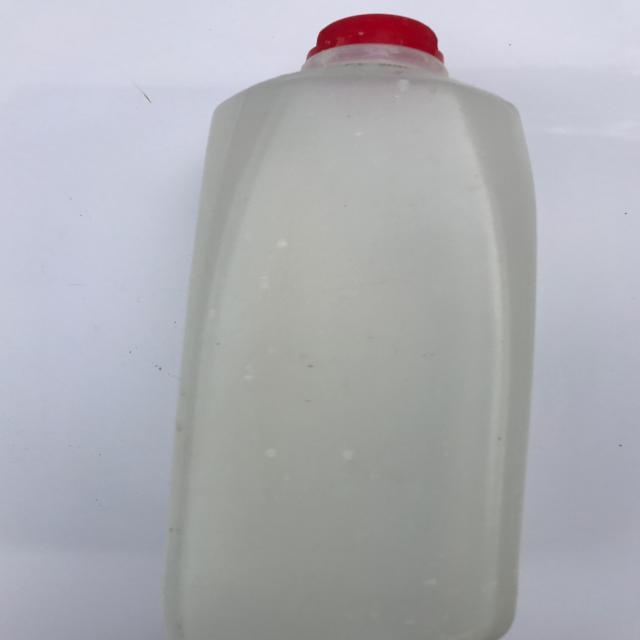plastic: (162, 13, 538, 640)
